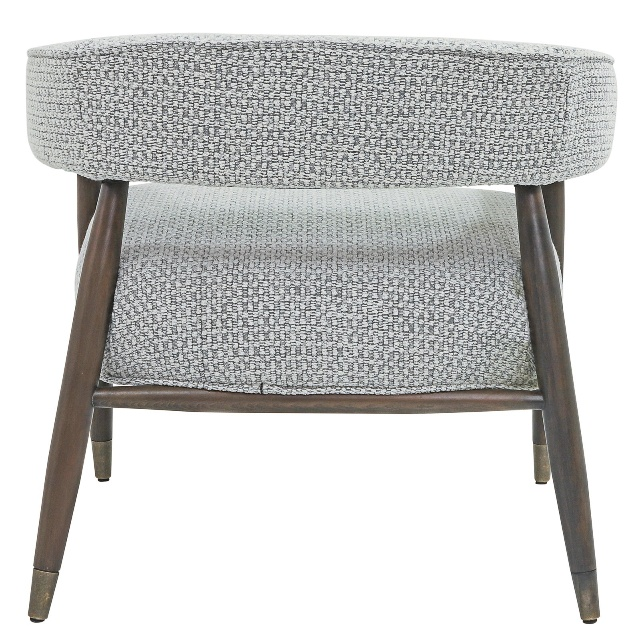obstacle: (27, 35, 616, 622)
